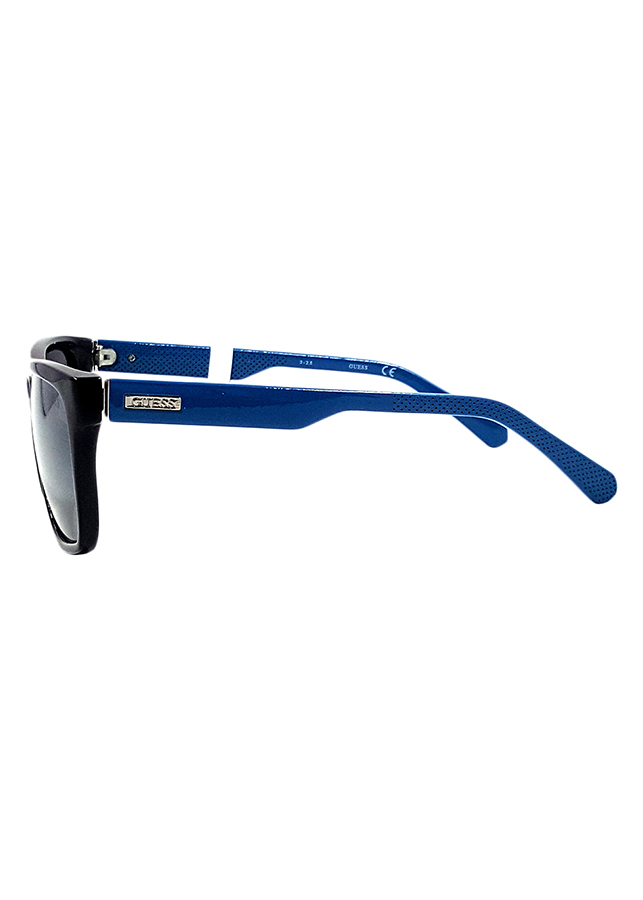Guess: (121, 391, 189, 417)
